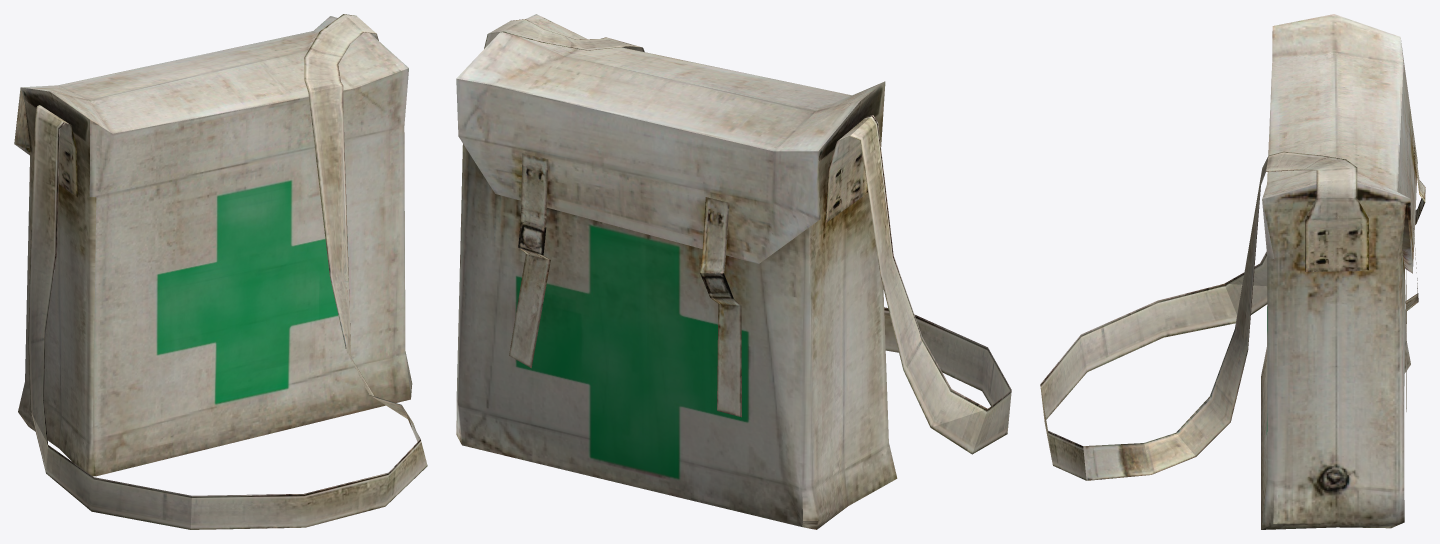
Rendered from VV_Health_Generic.fbx.
3 renders of one model, left to right at view 1: azimuth 30°, elevation 25°; view 2: azimuth 150°, elevation 25°; view 3: azimuth 270°, elevation 25°, orthographic. The views are drawn at different scales.
Parts seen in each view (by area): view 1: VV_Health_Generic; view 2: VV_Health_Generic; view 3: VV_Health_Generic.
Part boxes in pixels (bbox=[...]): VV_Health_Generic: bbox=[14, 14, 427, 529]; VV_Health_Generic: bbox=[456, 14, 1011, 529]; VV_Health_Generic: bbox=[1040, 14, 1425, 529].
Size of the model in its own units: 72.49 by 64.16 by 62.52.
Materials: 1 (1 with a texture image).
